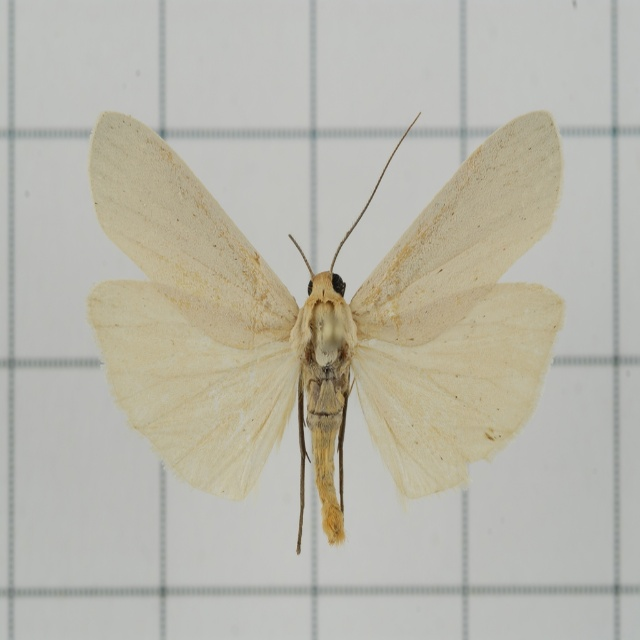Moths and butterflies: (88, 104, 572, 555)
